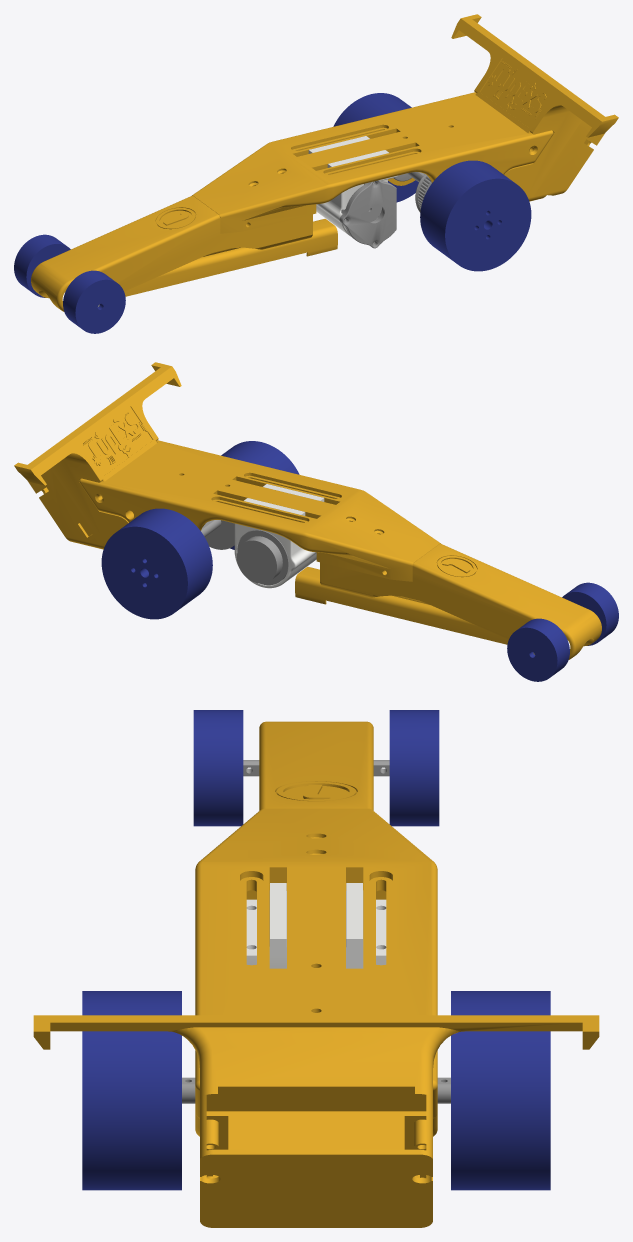
File: cupexs.glb
3 renders of one model, top to bottom at view 1: azimuth 30°, elevation 25°; view 2: azimuth 150°, elevation 25°; view 3: azimuth 270°, elevation 25°, orthographic. The views are drawn at different scales.
Visible parts, largest first — view 1: Chassis (3), front, Body1.002, Electronics box, Rail guide, Body1.006, motor shaft cap, Body6, Body1.003, Body1.005, motor bracket; view 2: Chassis (3), front, Body1.003, Electronics box, Rail guide, Body1.005, Body1, Body6, motor bracket, Body1.006, Body1.002, GT2 Pulley.001; view 3: Chassis (3), Electronics box, Body6, Body1.002, Body1.003, front, Body2, Body1.005, Body1.006, motor bracket, rear shaft.
Boxes of the visible parts, left/top/right/bottom form: Chassis (3): left=192, top=92, right=553, bottom=233; front: left=31, top=195, right=312, bottom=311; Body1.002: left=420, top=160, right=531, bottom=271; Electronics box: left=451, top=14, right=618, bottom=196; Rail guide: left=124, top=219, right=337, bottom=296; Body1.006: left=63, top=270, right=125, bottom=333; motor shaft cap: left=339, top=180, right=396, bottom=248; Body6: left=527, top=120, right=604, bottom=201; Body1.003: left=333, top=93, right=418, bottom=202; Body1.005: left=14, top=234, right=70, bottom=297; motor bracket: left=308, top=136, right=397, bottom=243; Chassis (3): left=79, top=440, right=440, bottom=581; front: left=320, top=543, right=601, bottom=659; Body1.003: left=101, top=508, right=212, bottom=619; Electronics box: left=14, top=362, right=181, bottom=544; Rail guide: left=295, top=567, right=508, bottom=644; Body1.005: left=507, top=618, right=569, bottom=681; Body1: left=236, top=530, right=288, bottom=585; Body6: left=28, top=468, right=105, bottom=549; motor bracket: left=234, top=484, right=324, bottom=588; Body1.006: left=562, top=582, right=618, bottom=645; Body1.002: left=221, top=441, right=299, bottom=549; GT2 Pulley.001: left=205, top=520, right=234, bottom=549; Chassis (3): left=195, top=808, right=437, bottom=1136; Electronics box: left=33, top=1015, right=599, bottom=1111; Body6: left=200, top=1095, right=432, bottom=1227; Body1.002: left=82, top=991, right=181, bottom=1190; Body1.003: left=451, top=991, right=550, bottom=1190; front: left=259, top=721, right=373, bottom=890; Body2: left=206, top=1111, right=426, bottom=1178; Body1.005: left=389, top=710, right=439, bottom=826; Body1.006: left=193, top=710, right=243, bottom=826; motor bracket: left=246, top=883, right=386, bottom=968; rear shaft: left=182, top=1077, right=450, bottom=1103.
Bounding box in the file's own units: 0.3742 × 0.088 × 0.1702.
